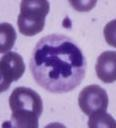N: (31, 32, 88, 94)
